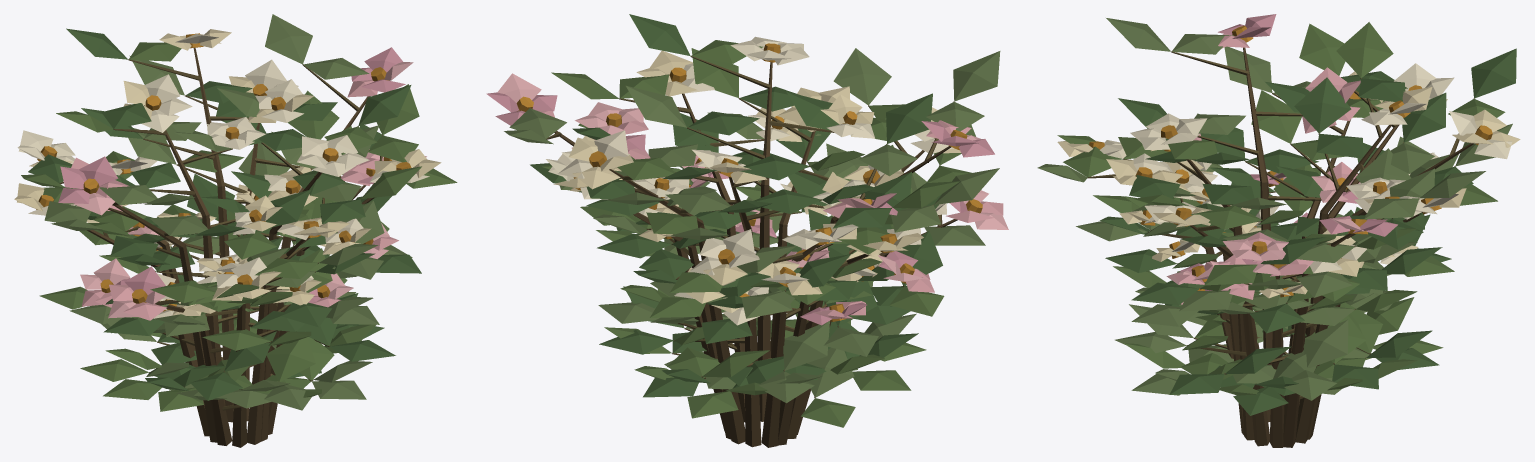
Rendered from shore-flower.glb.
3 renders of one model, left to right at view 1: azimuth 30°, elevation 25°; view 2: azimuth 150°, elevation 25°; view 3: azimuth 270°, elevation 25°, orthographic. The views are drawn at different scales.
Visible parts, largest first — view 1: Wild rose bush / ivory and blush flowers with gold centers.0; view 2: Wild rose bush / ivory and blush flowers with gold centers.0; view 3: Wild rose bush / ivory and blush flowers with gold centers.0.
Boxes of the visible parts, x1,y1,x2,y2 form: Wild rose bush / ivory and blush flowers with gold centers.0: [14, 14, 457, 447]; Wild rose bush / ivory and blush flowers with gold centers.0: [486, 14, 1008, 447]; Wild rose bush / ivory and blush flowers with gold centers.0: [1037, 14, 1520, 447].
Bounding box in the file's own units: 1.39 × 1.11 × 1.37.
